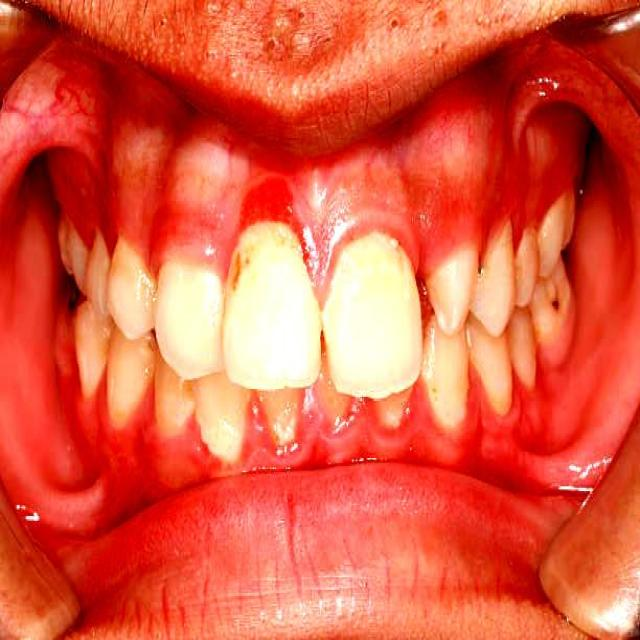caries: (537, 270, 584, 340)
